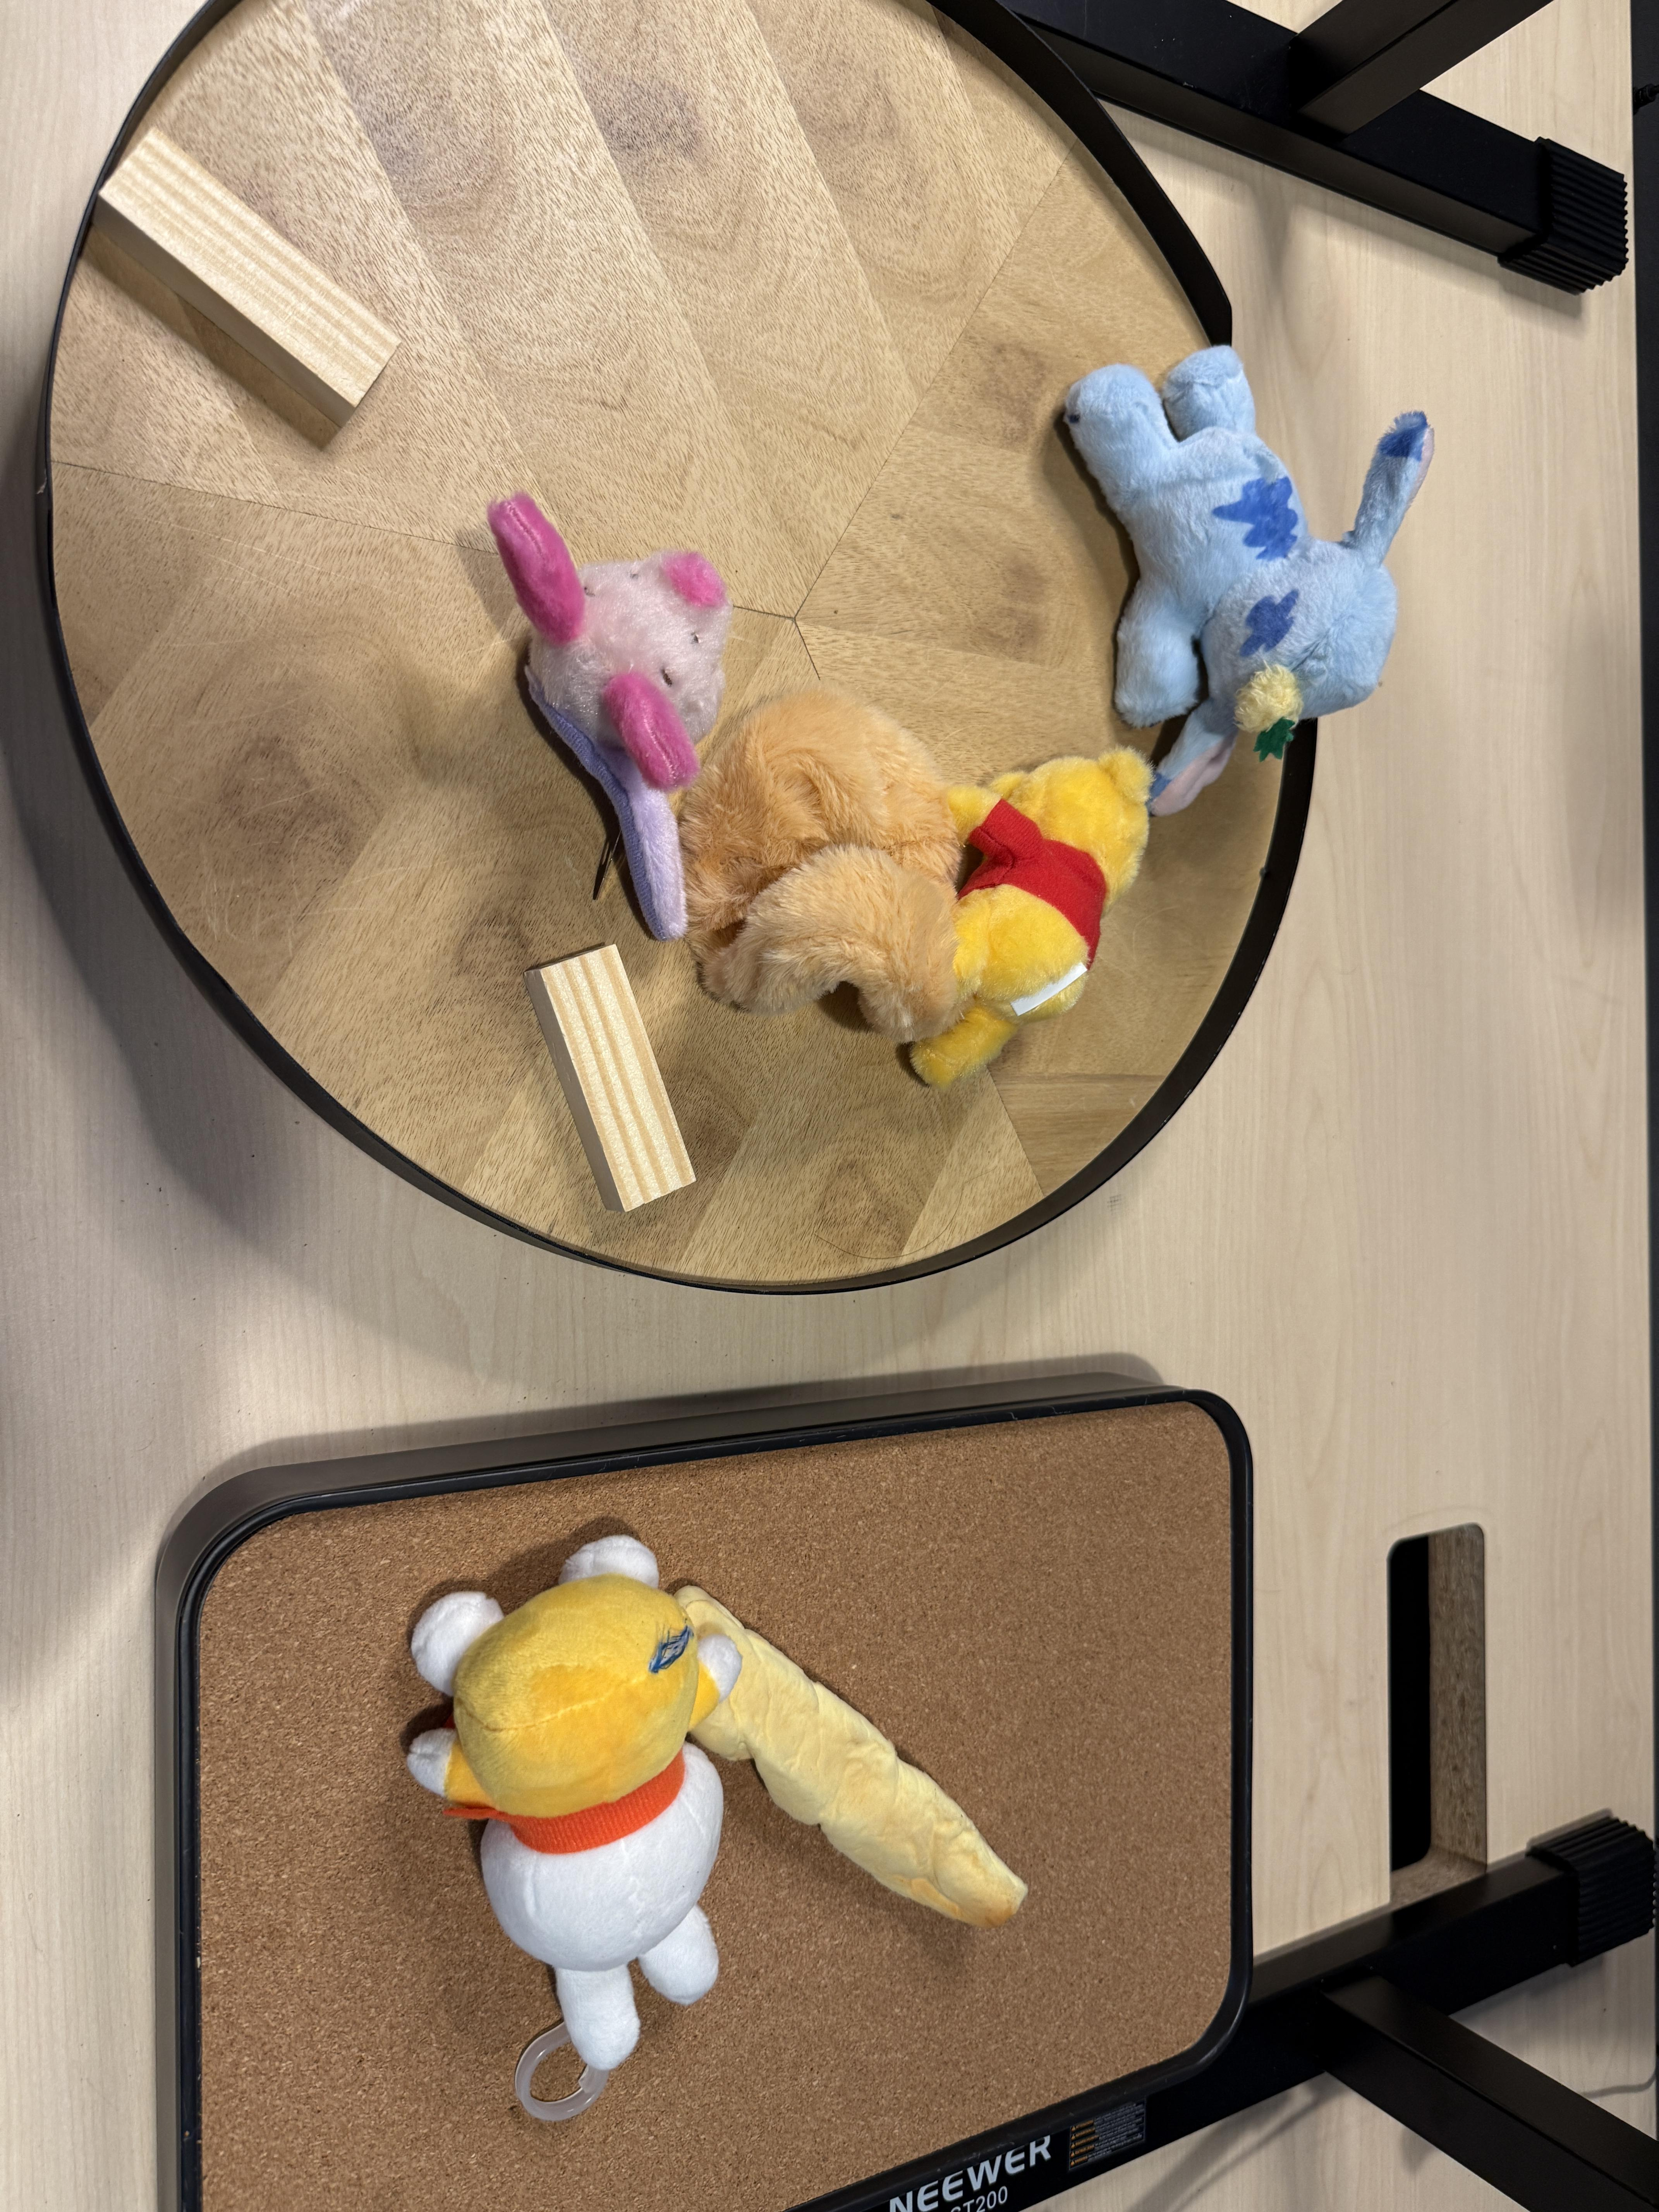block: (98, 124, 406, 418), (530, 949, 704, 1216)
bread: (666, 1583, 1035, 1937)
doll: (1068, 341, 1436, 812), (732, 693, 1155, 1083), (418, 1533, 730, 2062), (484, 496, 737, 935), (755, 1369, 756, 1399)
